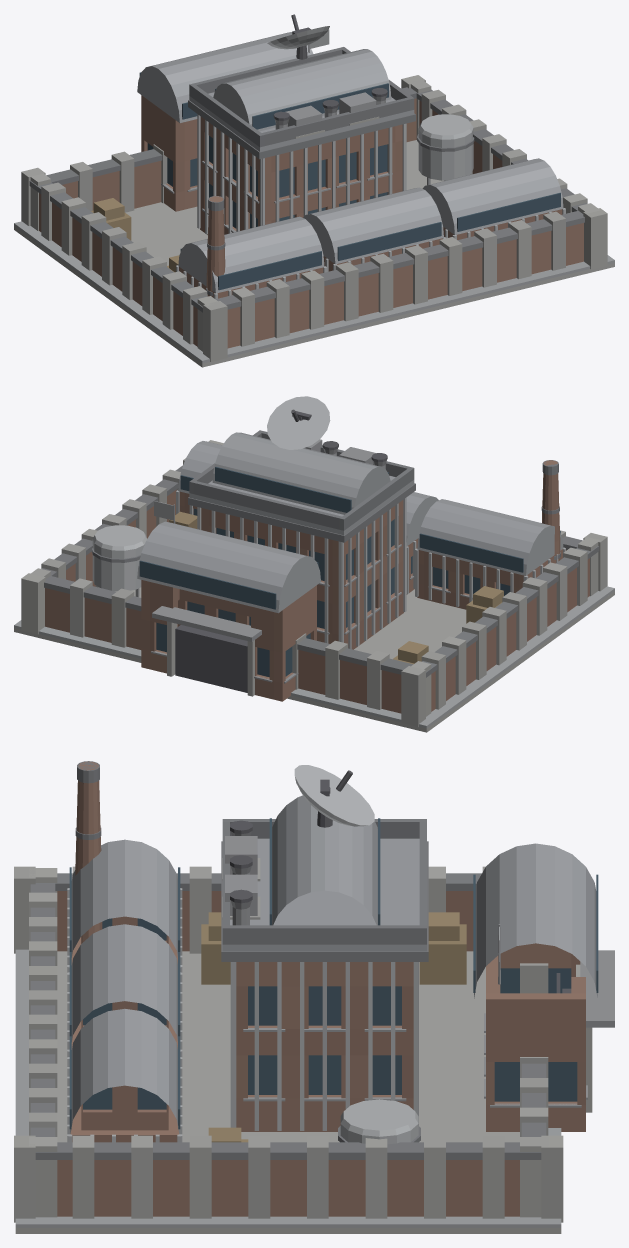
File: chinese_hq.glb
3 renders of one model, top to bottom at view 1: azimuth 30°, elevation 25°; view 2: azimuth 150°, elevation 25°; view 3: azimuth 270°, elevation 25°, orthographic. The views are drawn at different scales.
Parts seen in each view (by area): view 1: wall_piers, wall, drum_wall, wall_cap, drum_vault_vault, apron, drum_ribs, apron_rim, shed1_vault_vault, shed2_vault_vault, gate_vault_vault, shed0_vault_vault (+16 smaller); view 2: wall_piers, wall, gate_vault_vault, gatehouse_wall, drum_wall, drum_vault_vault, drum_ribs, apron, shed0_vault_vault, wall_cap, apron_rim, drum_parapet (+19 smaller); view 3: wall_piers, apron, wall, drum_wall, gatehouse_wall, gate_vault_vault, wall_cap, drum_vault_vault, drum_deck, apron_rim, shed2_vault_vault, shed1_vault_vault (+19 smaller).
Boxes of the visible parts, box(x1,y1,x2,y2) form: wall_piers: box(21, 75, 607, 361); wall: box(39, 98, 583, 348); drum_wall: box(200, 116, 402, 234); wall_cap: box(29, 87, 587, 312); drum_vault_vault: box(213, 49, 391, 131); apron: box(14, 140, 614, 367); drum_ribs: box(197, 114, 406, 234); apron_rim: box(14, 221, 614, 363); shed1_vault_vault: box(303, 187, 443, 264); shed2_vault_vault: box(422, 158, 563, 234); gate_vault_vault: box(137, 32, 313, 122); shed0_vault_vault: box(178, 216, 324, 293); wall_piers: box(21, 440, 607, 727); wall: box(45, 489, 589, 713); gate_vault_vault: box(137, 521, 320, 613); gatehouse_wall: box(141, 580, 316, 701); drum_wall: box(201, 500, 403, 649); drum_vault_vault: box(212, 432, 390, 514); drum_ribs: box(197, 497, 406, 649); apron: box(14, 587, 614, 732); shed0_vault_vault: box(417, 499, 563, 575); wall_cap: box(41, 465, 599, 677); apron_rim: box(14, 586, 614, 728); drum_parapet: box(189, 430, 414, 530); wall_piers: box(14, 866, 563, 1222); apron: box(15, 951, 561, 1233); wall: box(57, 891, 519, 1216); drum_wall: box(236, 962, 413, 1131); gatehouse_wall: box(486, 943, 592, 1131); gate_vault_vault: box(474, 843, 597, 998); wall_cap: box(30, 873, 546, 1159); drum_vault_vault: box(272, 795, 377, 925); drum_deck: box(222, 838, 426, 951); apron_rim: box(15, 949, 561, 1227); shed2_vault_vault: box(70, 1008, 179, 1133); shed1_vault_vault: box(71, 924, 177, 1041).
Bounding box in the file's own units: 38 × 19.24 × 33.05.
